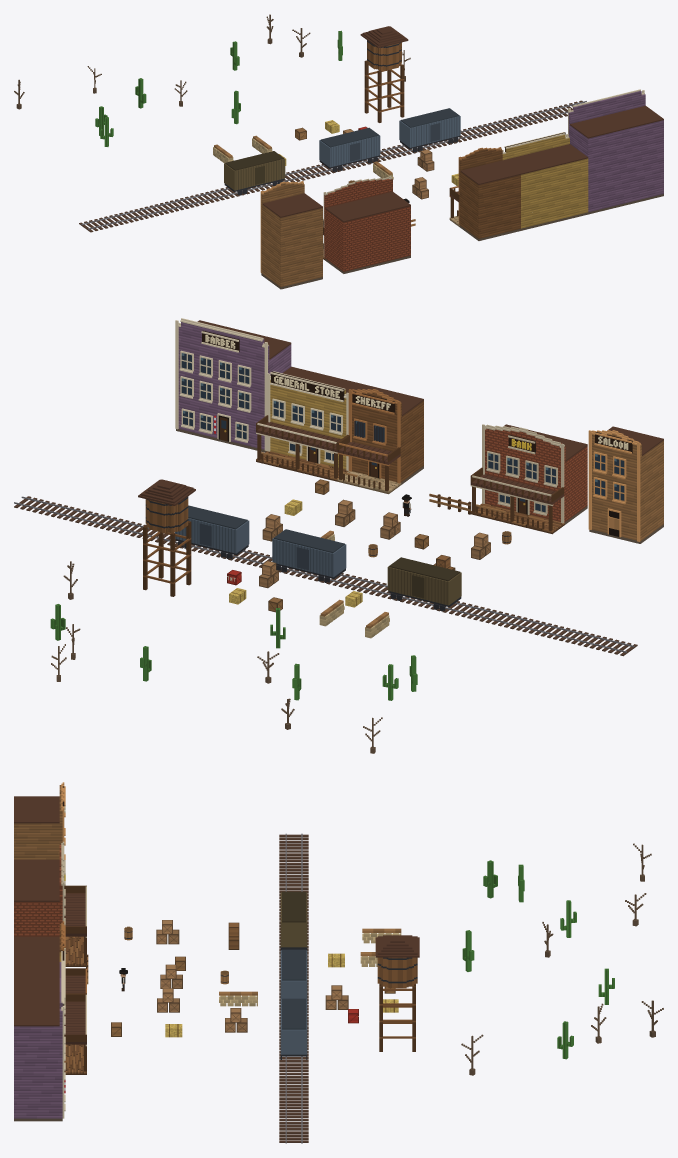
Rendered from rail_seed7.glb.
3 renders of one model, top to bottom at view 1: azimuth 30°, elevation 25°; view 2: azimuth 150°, elevation 25°; view 3: azimuth 270°, elevation 25°, orthographic. The views are drawn at different scales.
Visible parts, largest first — view 1: building_5, building_1, building_4, building_0, cover_boxcar (×3), building_3, decor, cover_tower; view 2: building_5, building_1, building_4, cover_boxcar (×3), building_0, building_3, decor, cover_tower; view 3: building_5, building_1, decor, cover_boxcar (×3), building_0, cover_tower, building_4, building_3, cover_sandbags.
Boxes of the visible parts, x1,y1,x2,y2 form: building_5: [568, 89, 663, 214]; building_1: [323, 176, 410, 273]; building_4: [502, 132, 588, 230]; building_0: [260, 181, 322, 289]; cover_boxcar (×3): [224, 108, 460, 195]; building_3: [449, 147, 520, 240]; decor: [79, 100, 586, 232]; cover_tower: [360, 26, 408, 122]; building_5: [175, 318, 291, 452]; building_1: [470, 424, 587, 534]; building_4: [256, 366, 372, 481]; cover_boxcar (×3): [175, 505, 461, 611]; building_0: [588, 426, 663, 543]; building_3: [337, 386, 423, 494]; decor: [14, 496, 637, 656]; cover_tower: [138, 479, 195, 596]; building_5: [14, 960, 65, 1121]; building_1: [14, 841, 86, 966]; decor: [279, 833, 308, 1143]; cover_boxcar (×3): [280, 891, 307, 1059]; building_0: [14, 782, 65, 859]; cover_tower: [375, 935, 419, 1051]; building_4: [14, 951, 86, 1074]; building_3: [14, 921, 86, 993]; cover_sandbags: [219, 991, 257, 1006].
Size of what is drawn, in the model's own units: 60 by 10.63 by 53.37.
